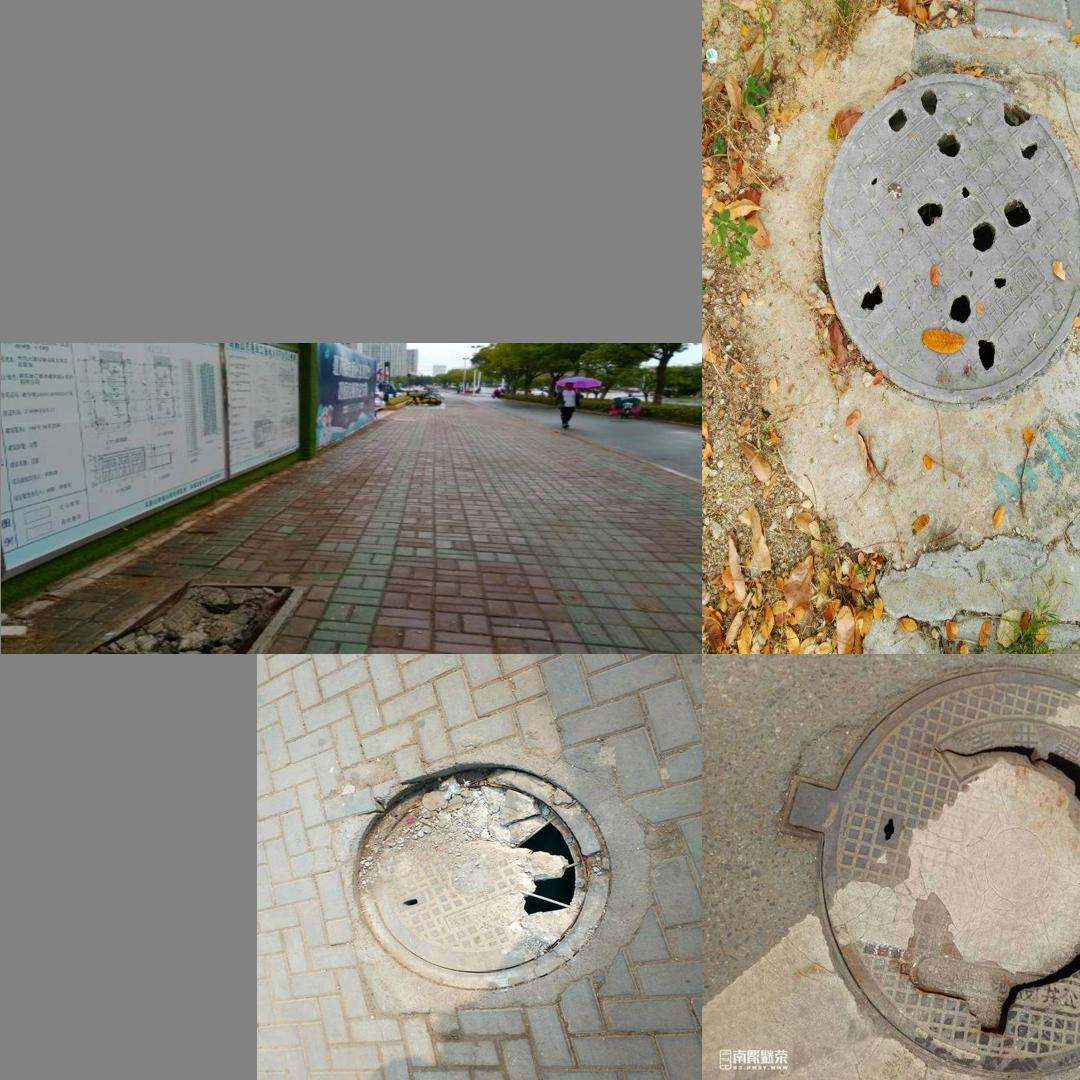broke: (810, 660, 1080, 1077), (819, 72, 1080, 403), (350, 746, 621, 1013), (80, 578, 308, 654)
